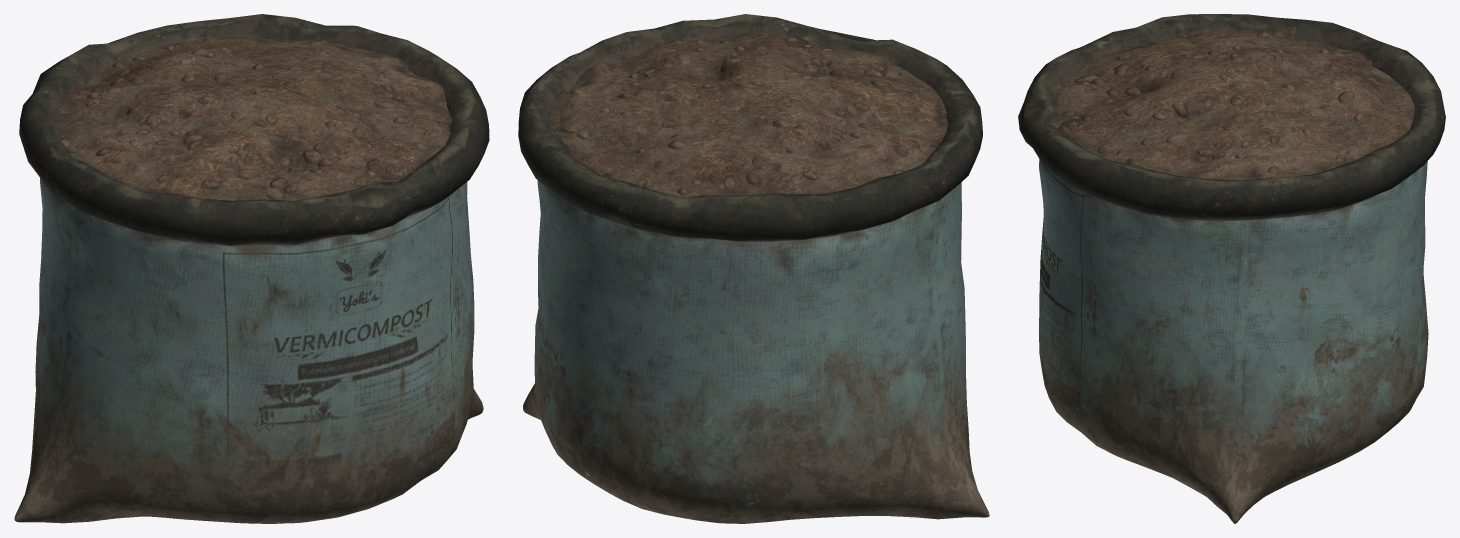
Rendered from compost_bag.glb.
3 renders of one model, left to right at view 1: azimuth 30°, elevation 25°; view 2: azimuth 150°, elevation 25°; view 3: azimuth 270°, elevation 25°, orthographic. The views are drawn at different scales.
Visible parts, largest first — view 1: compost_bag_02_0; view 2: compost_bag_02_0; view 3: compost_bag_02_0.
Part boxes in pixels (x1=…): compost_bag_02_0: x1=14, y1=14, x2=489, y2=523; compost_bag_02_0: x1=518, y1=14, x2=989, y2=523; compost_bag_02_0: x1=1018, y1=14, x2=1445, y2=523.
Bounding box in the file's own units: 0.5393 × 0.4337 × 0.4705.
Materials: 1 (1 with a texture image).
